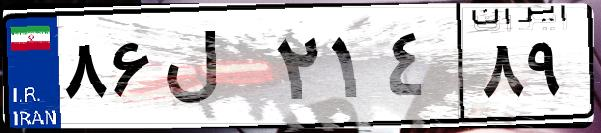1: (330, 28, 385, 110)
2: (270, 28, 330, 110)
4: (385, 28, 445, 110)
6: (110, 28, 158, 98)
8: (57, 26, 110, 100), (475, 38, 525, 113)
9: (525, 38, 570, 115)
ل: (158, 20, 270, 120)
